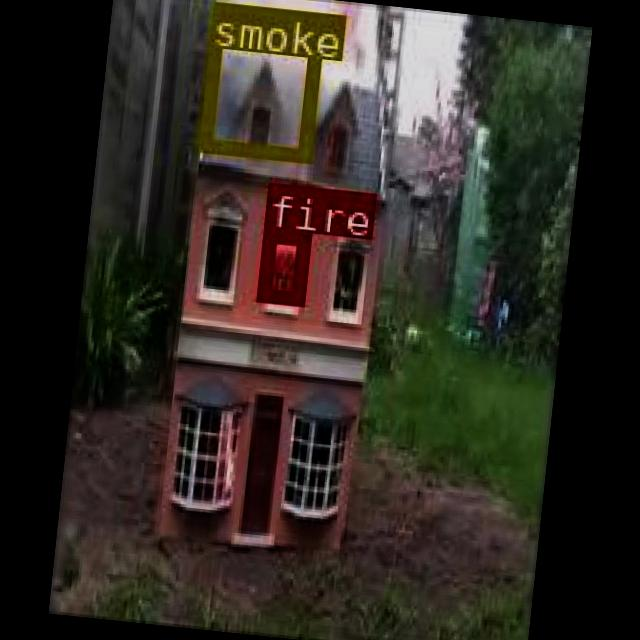fire: (254, 225, 308, 302)
smoke: (196, 0, 322, 159)
